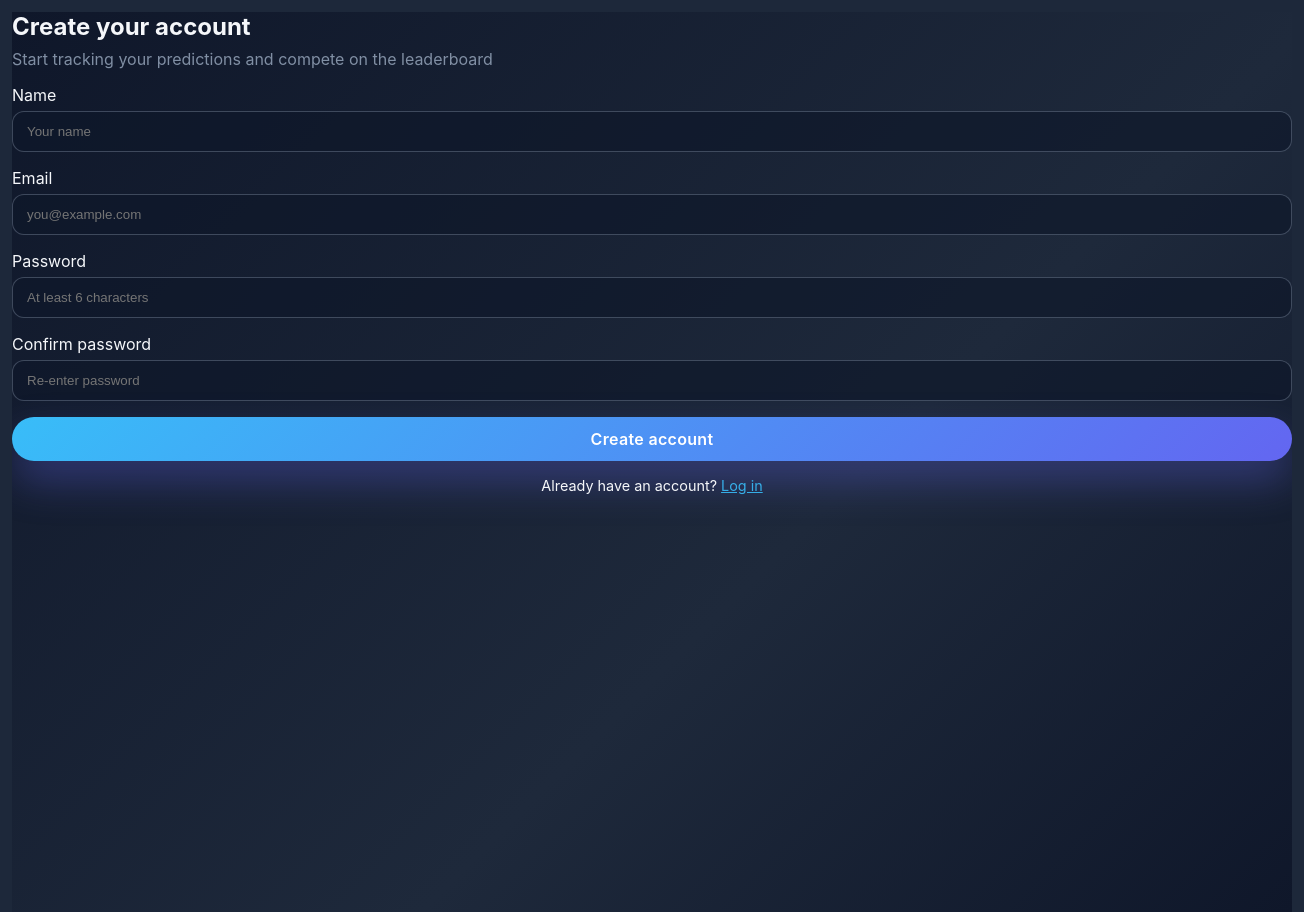
Test: RegisterForm › Form validation › should show error when password is too short
Type "Test User" into the field labelled "Name".
click(652, 132); type("Test User")  # box [12, 111, 1292, 152]
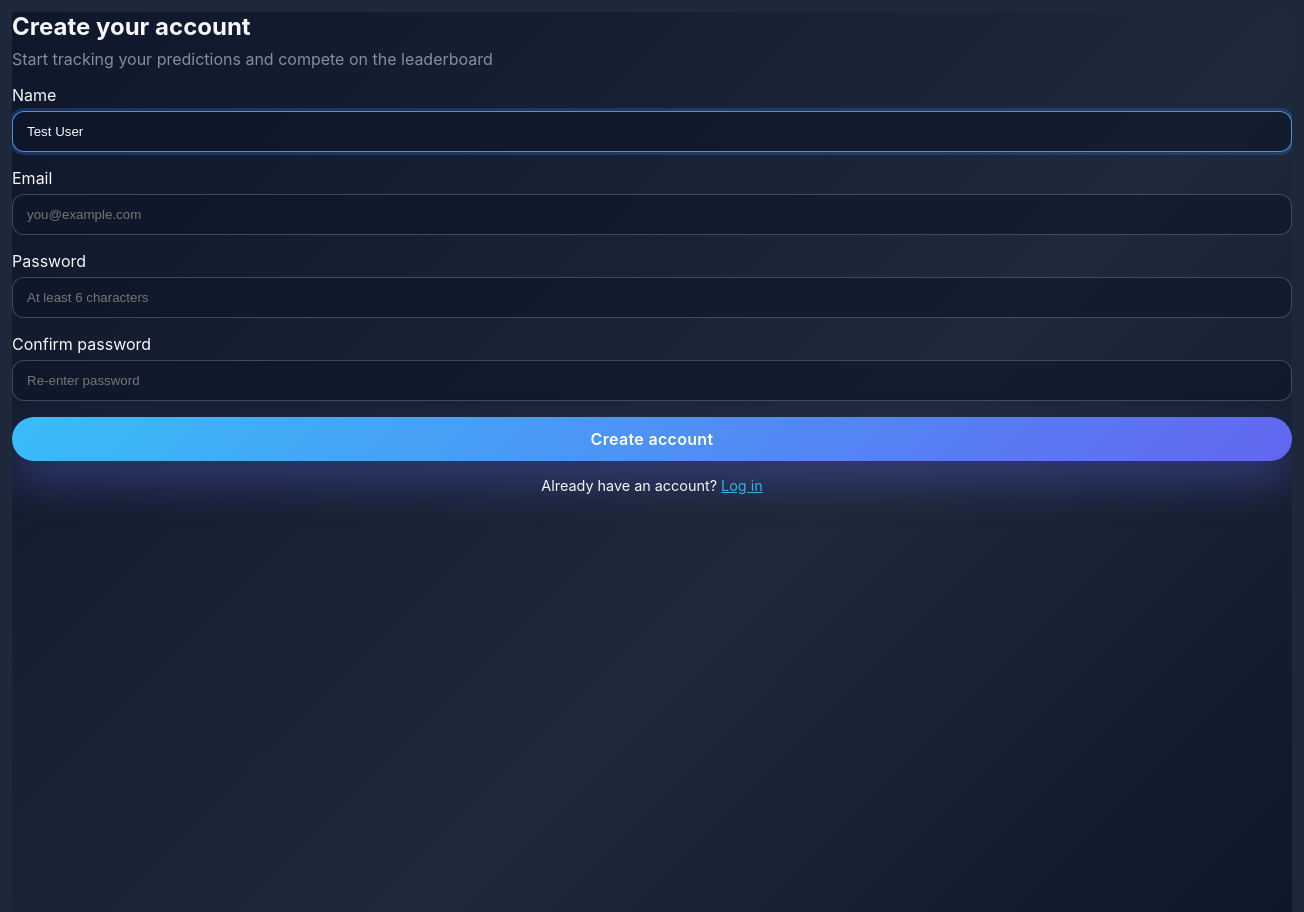
Type "test@example.com" into the field labelled "Email".
click(652, 214); type("test@example.com")  # box [12, 194, 1292, 235]
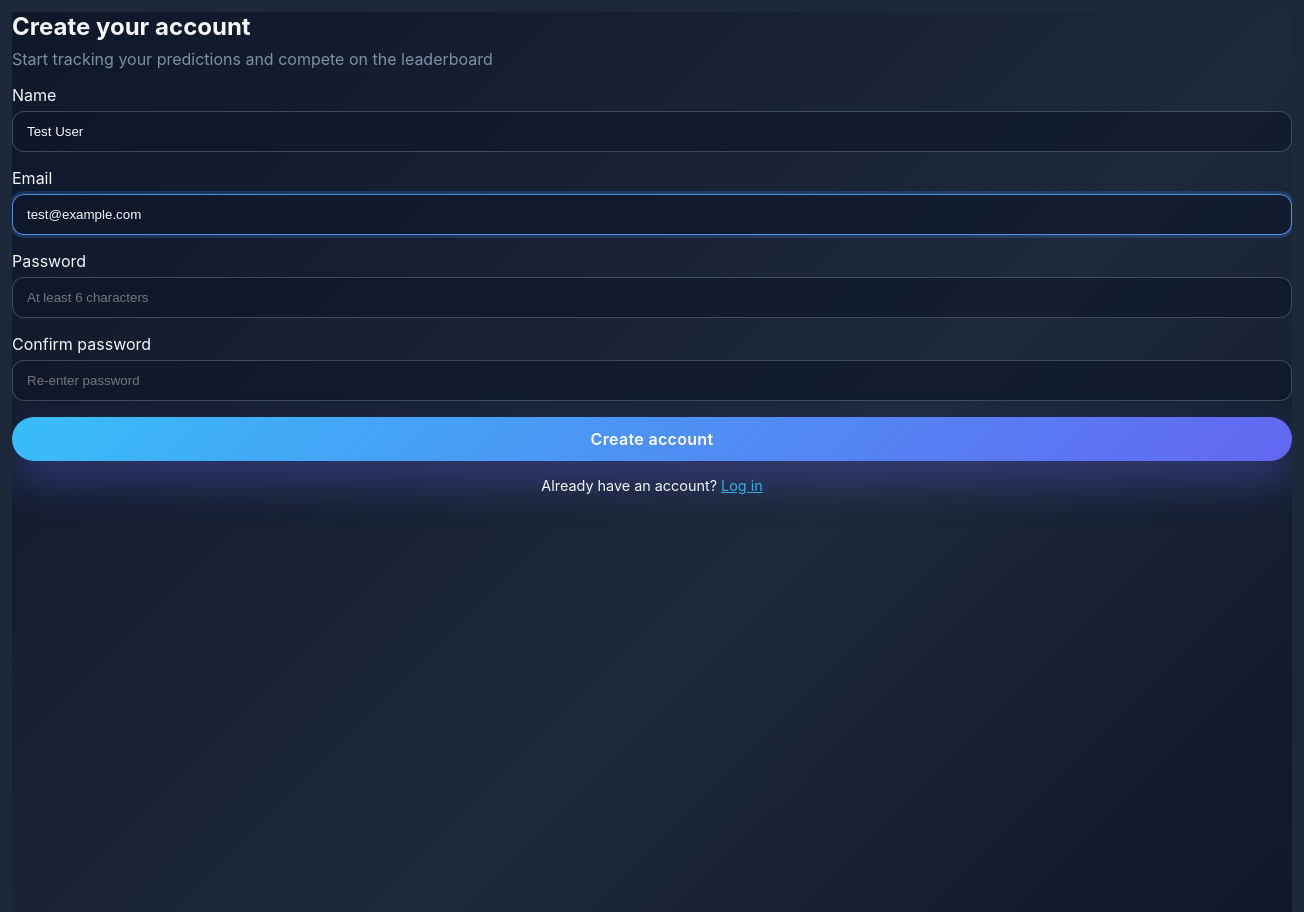
Type "12345" into the password field labelled "Password".
click(652, 298); type("12345")  # box [12, 277, 1292, 318]
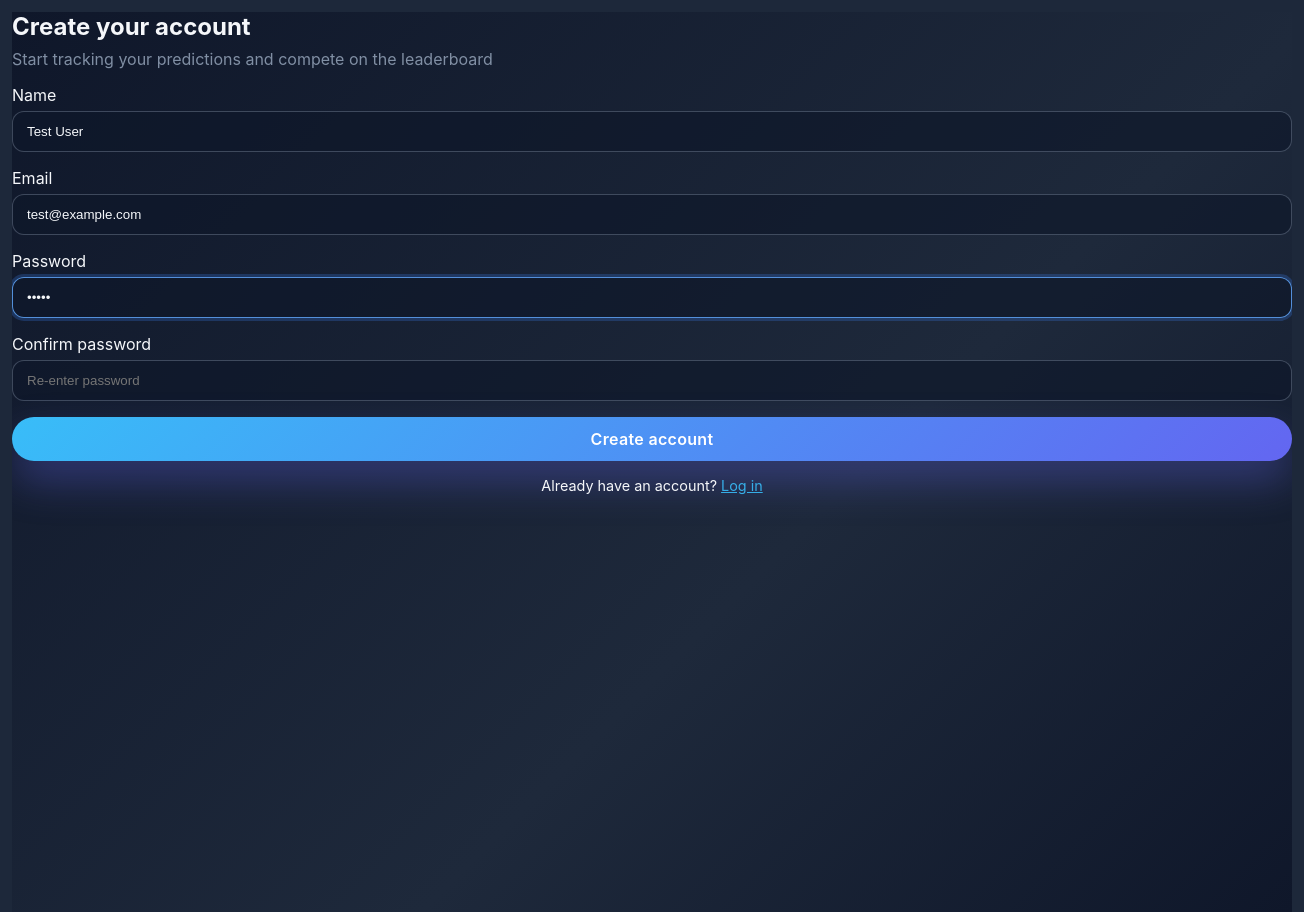
Type "12345" into the password field labelled "Confirm password".
click(652, 380); type("12345")  # box [12, 360, 1292, 401]
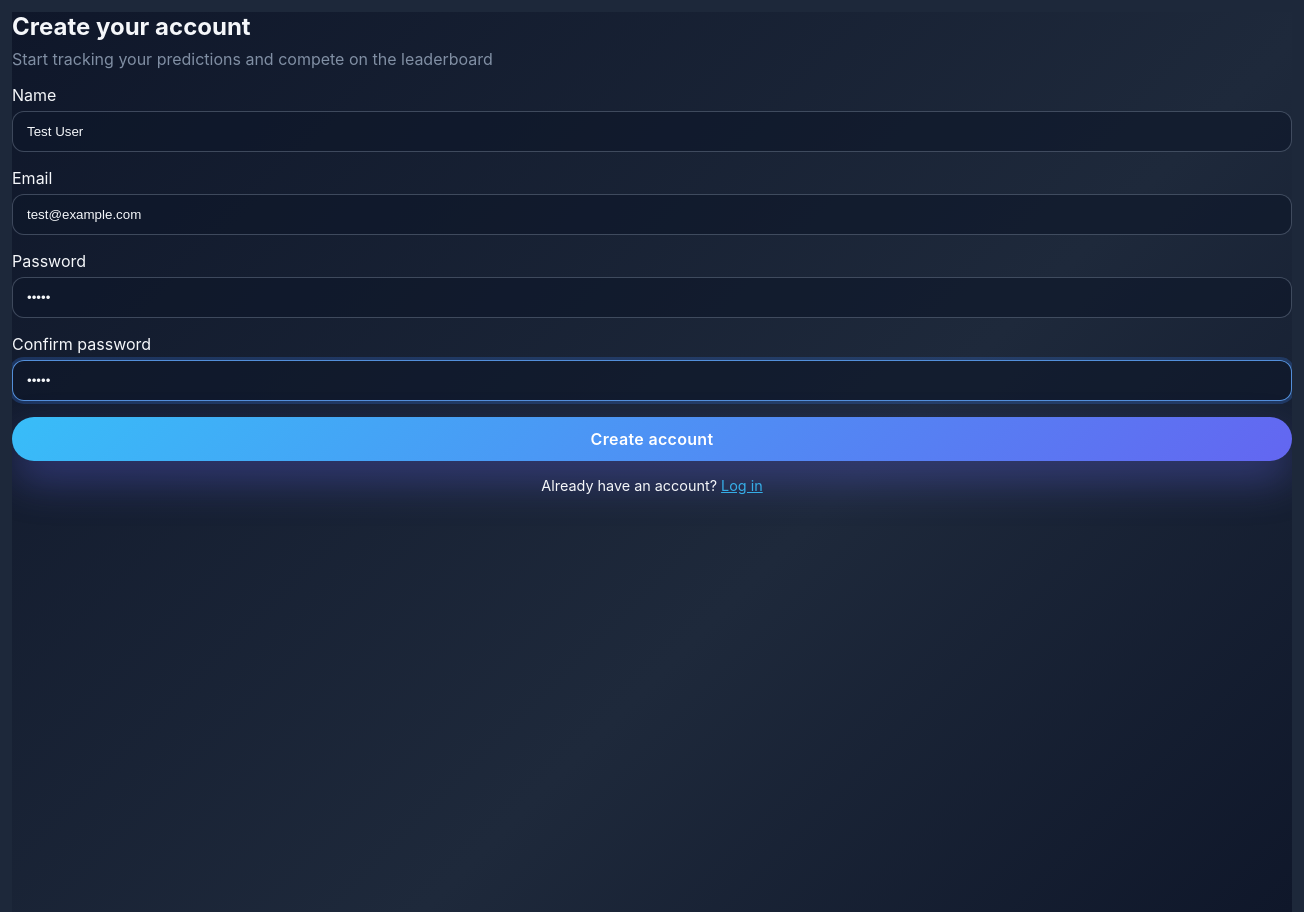
Click the button "Create account".
click(652, 439)  # box [12, 417, 1292, 461]
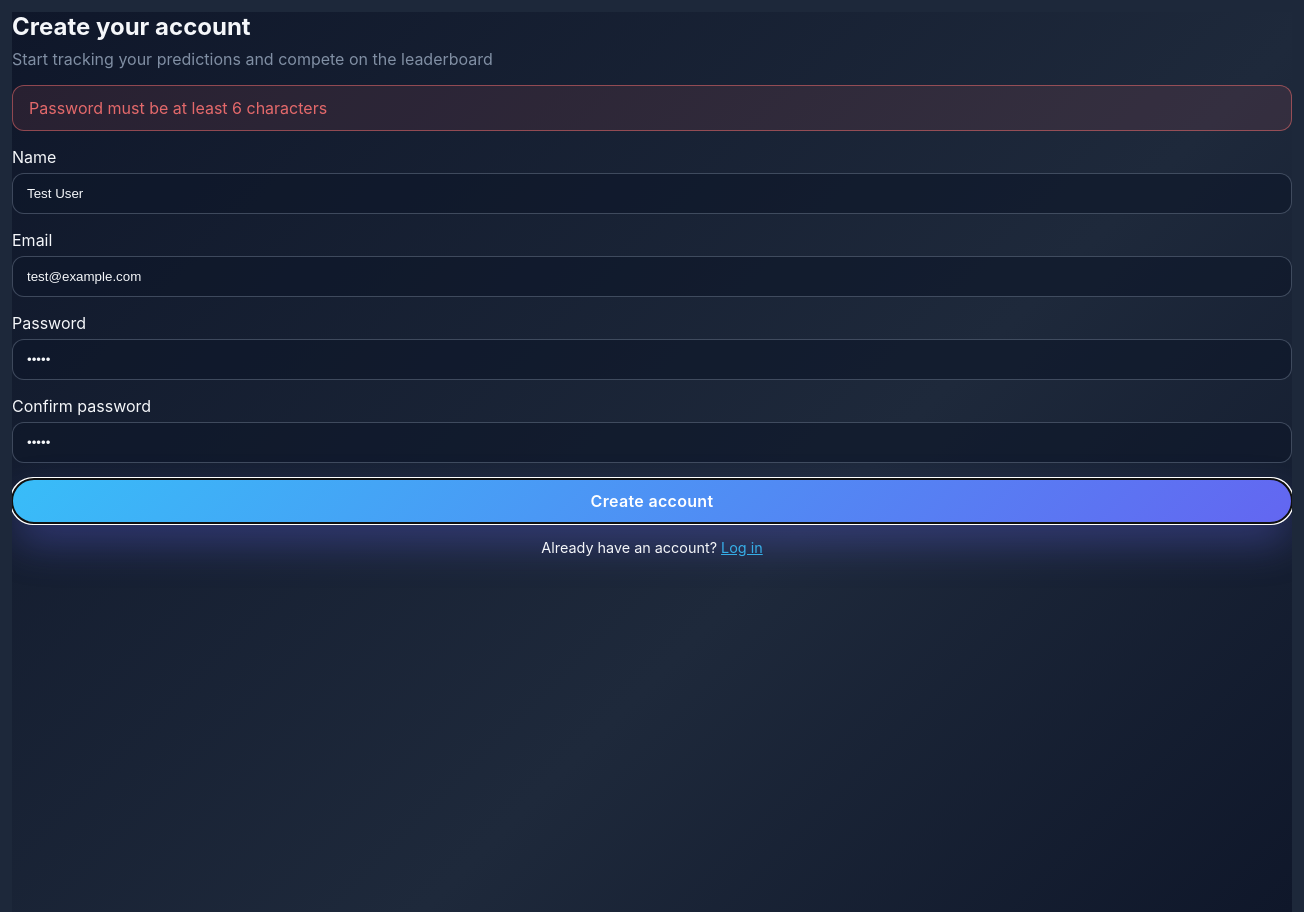
Check: the text "Password must be at least 6 characters" is shown, box [12, 85, 1292, 131]
